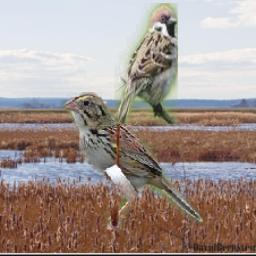Sparrow: (60, 92, 203, 229), (114, 3, 178, 124)
